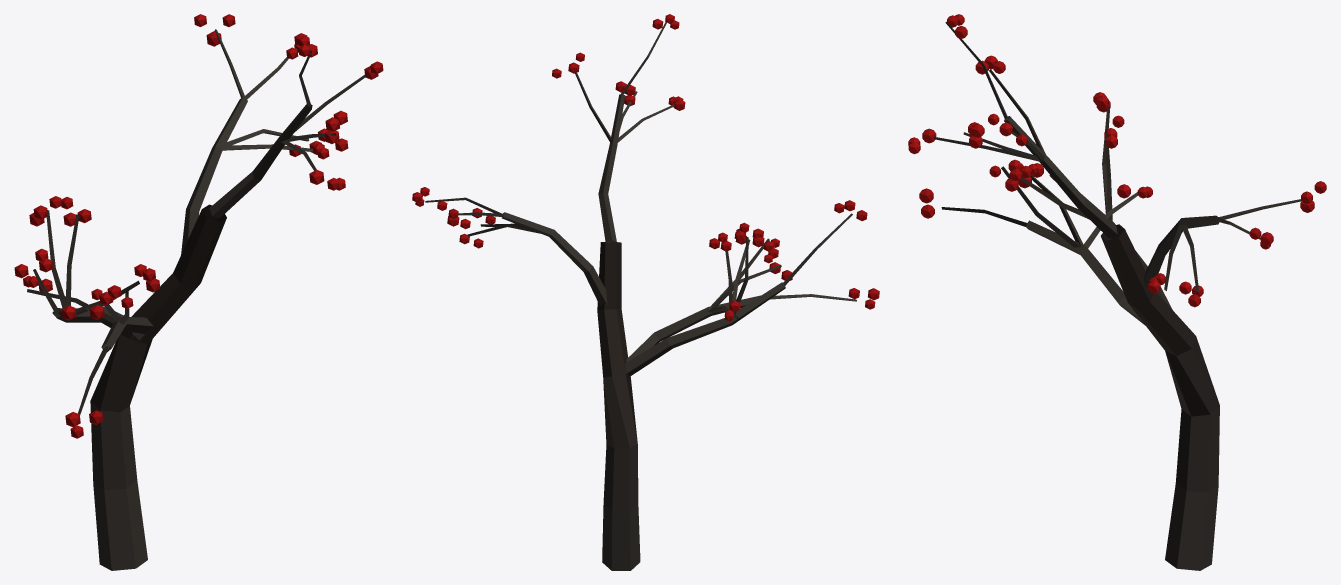
Rendered from hawthorn.glb.
3 views of the same model, side by side, from view 1: azimuth 30°, elevation 25°; view 2: azimuth 150°, elevation 25°; view 3: azimuth 270°, elevation 25° (orthographic). The views are drawn at different scales.
Visible parts, largest first — view 1: hawthorn; view 2: hawthorn; view 3: hawthorn.
Part boxes in pixels (x1,y1,x2,y2): hawthorn: (14, 14, 383, 570); hawthorn: (412, 14, 879, 570); hawthorn: (908, 14, 1326, 570).
Size of the model in its own units: 1.85 by 2.43 by 1.59.
